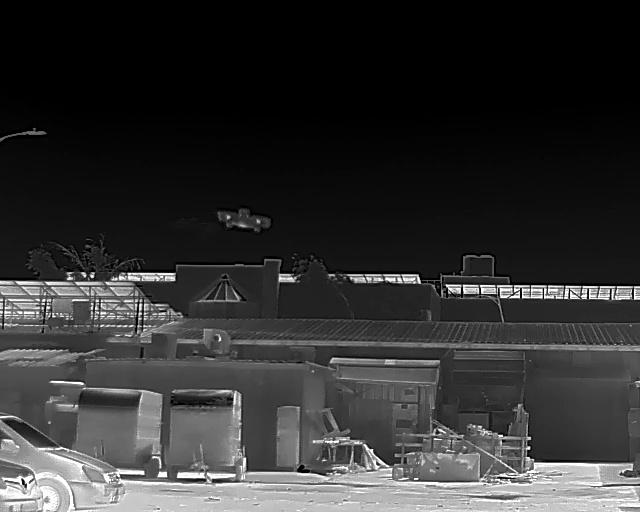fpv-drone: (217, 208, 270, 232)
